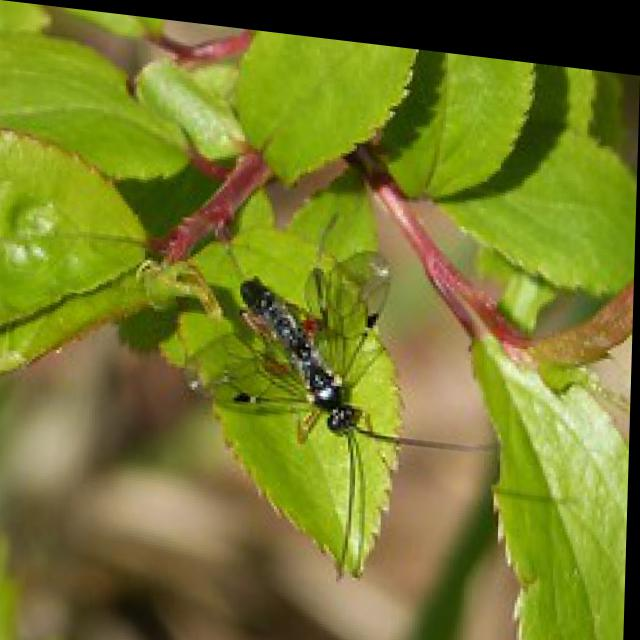Guepe: (177, 212, 493, 545)
